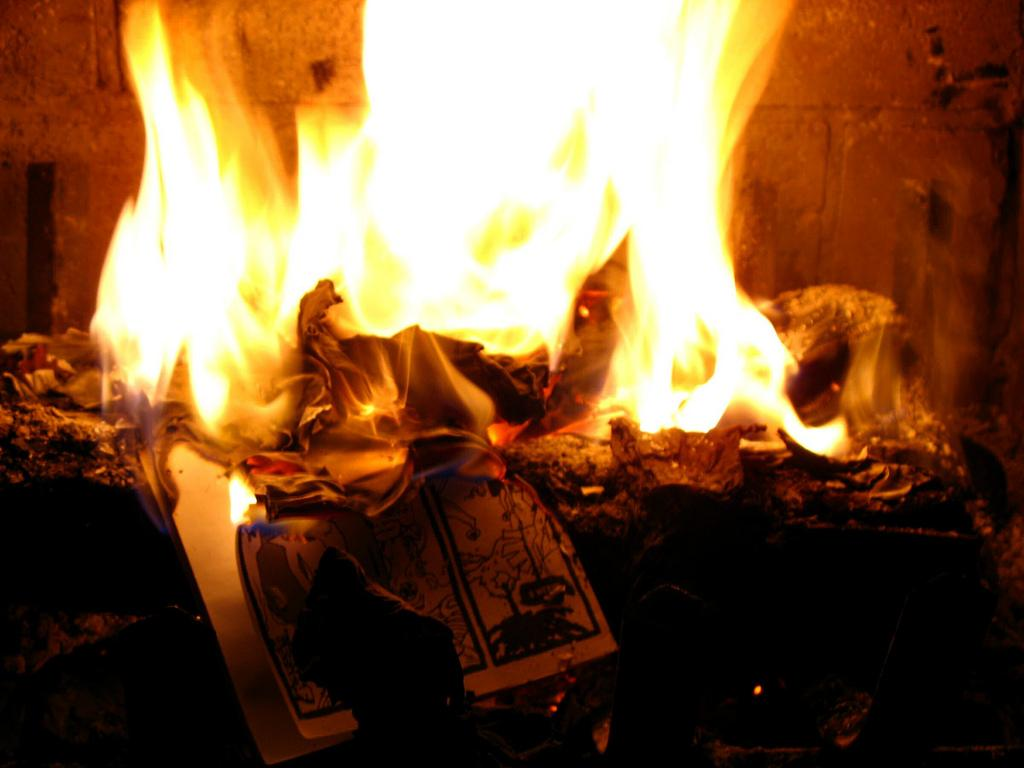fire: (376, 6, 730, 358), (130, 166, 326, 414)
